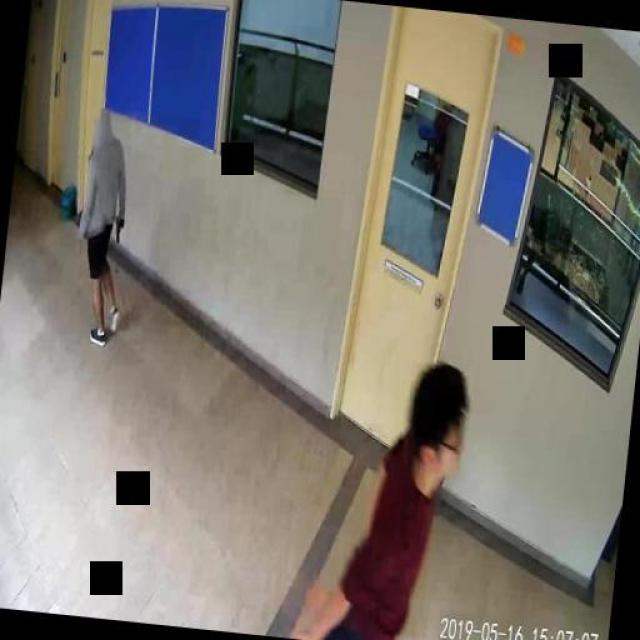gun: (112, 210, 124, 241)
